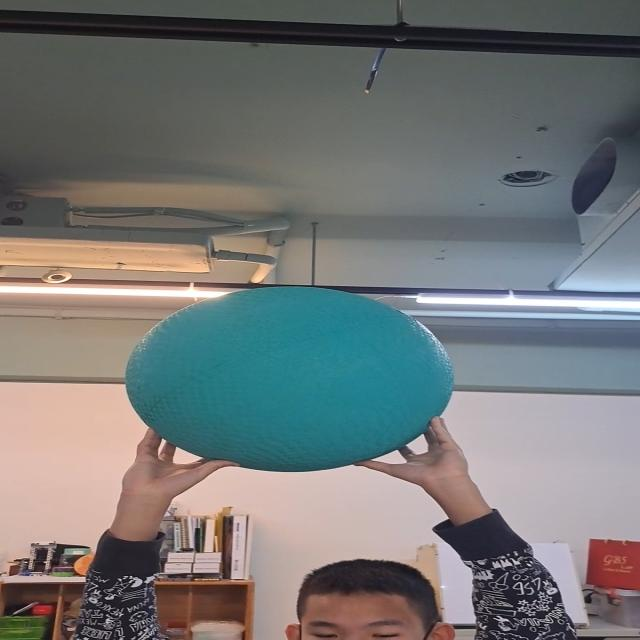ALGAE: (124, 286, 450, 472)
